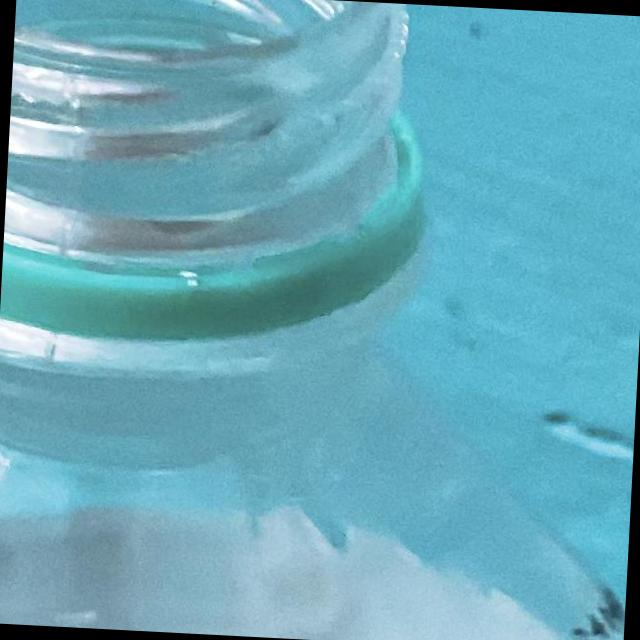open-cap: (0, 0, 434, 317)
